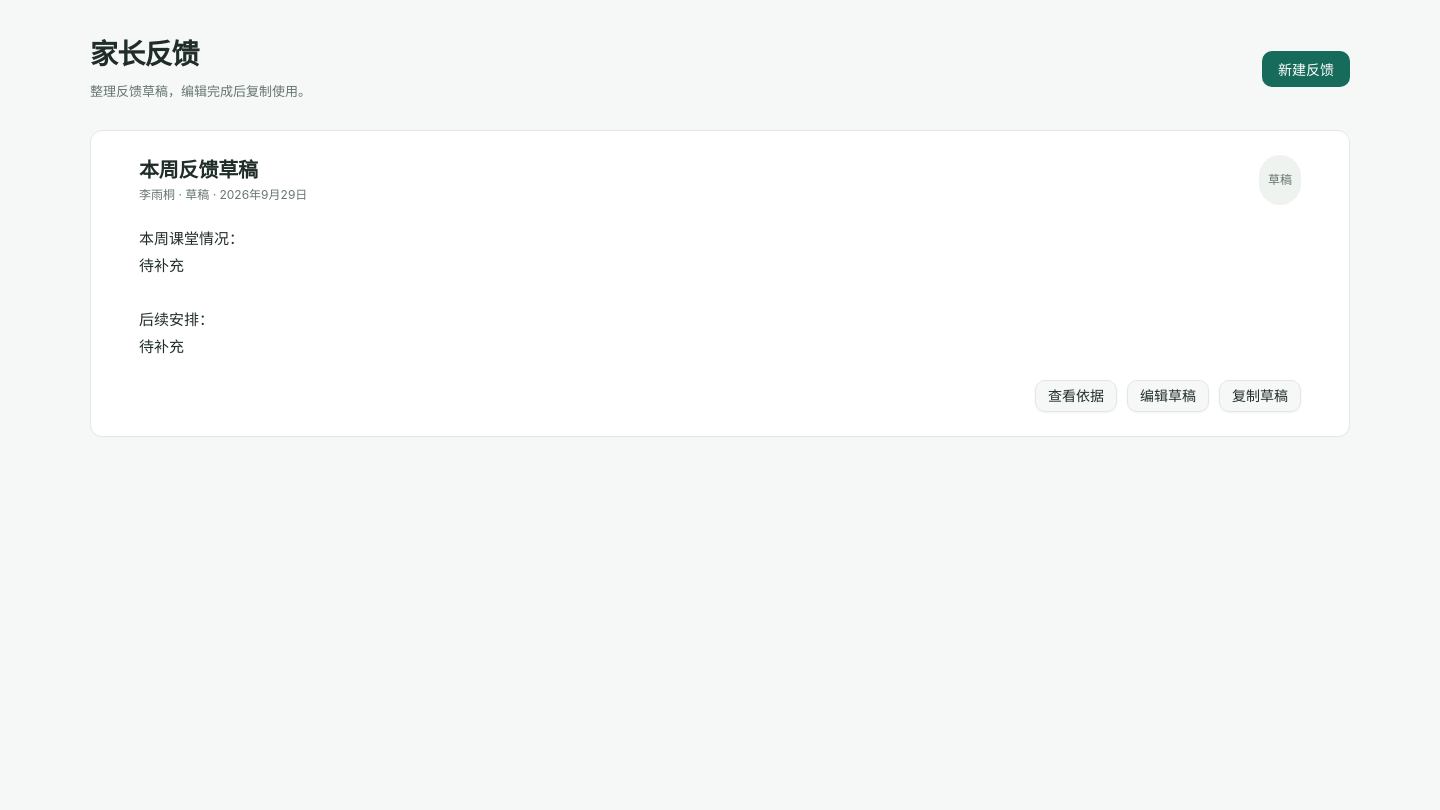
it: feedback settings › opens the saved evidence snapshot so the teacher can review the source
This screenshot has width=1440, height=810.
Click the button "查看依据": {"x": 1076, "y": 396} [1035,380,1117,412]
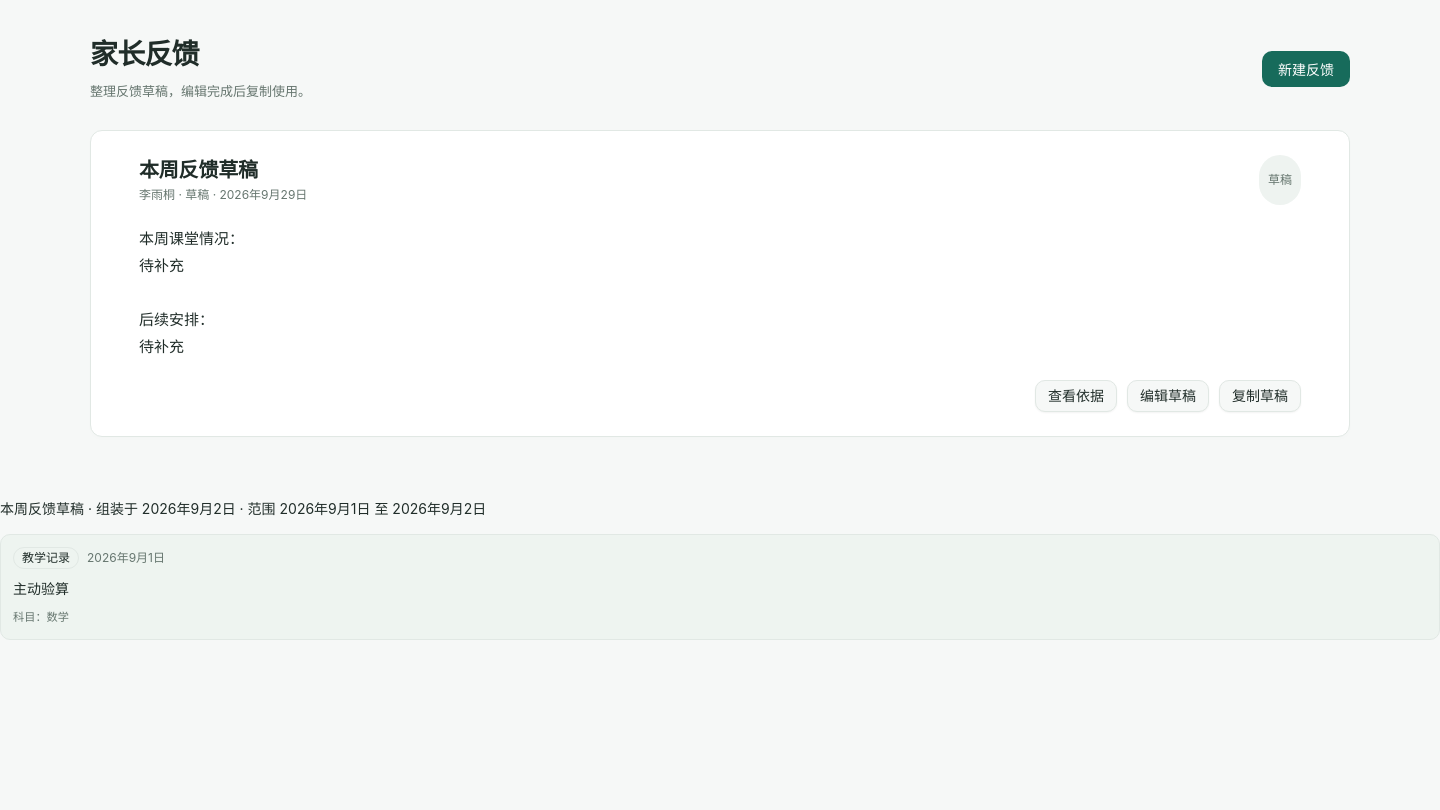
Expected: the list named "反馈依据列表" is shown, [0,534,1439,640]
Expected: the text "主动验算" is shown, [13,580,69,597]
Expected: the text "科目：数学" is shown, [13,610,69,624]
